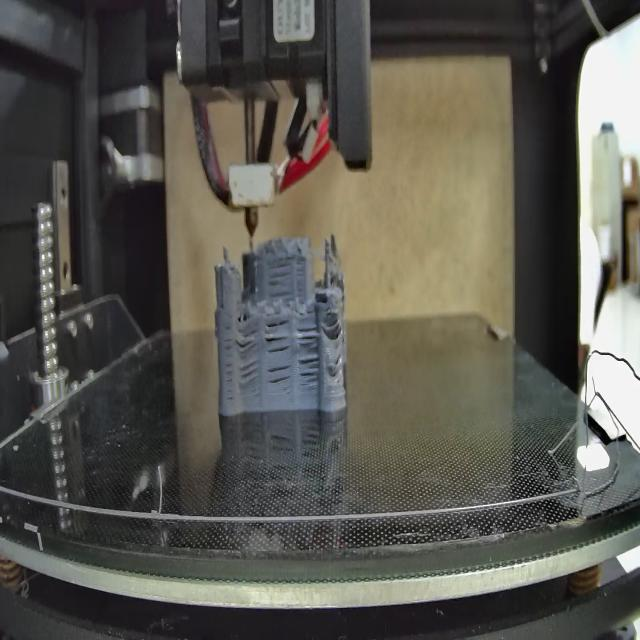cracks: (298, 322, 320, 391), (234, 321, 264, 356), (264, 318, 292, 352), (269, 260, 292, 298), (224, 320, 233, 404), (267, 362, 294, 389), (238, 358, 262, 384), (327, 313, 343, 341), (333, 350, 342, 370)
